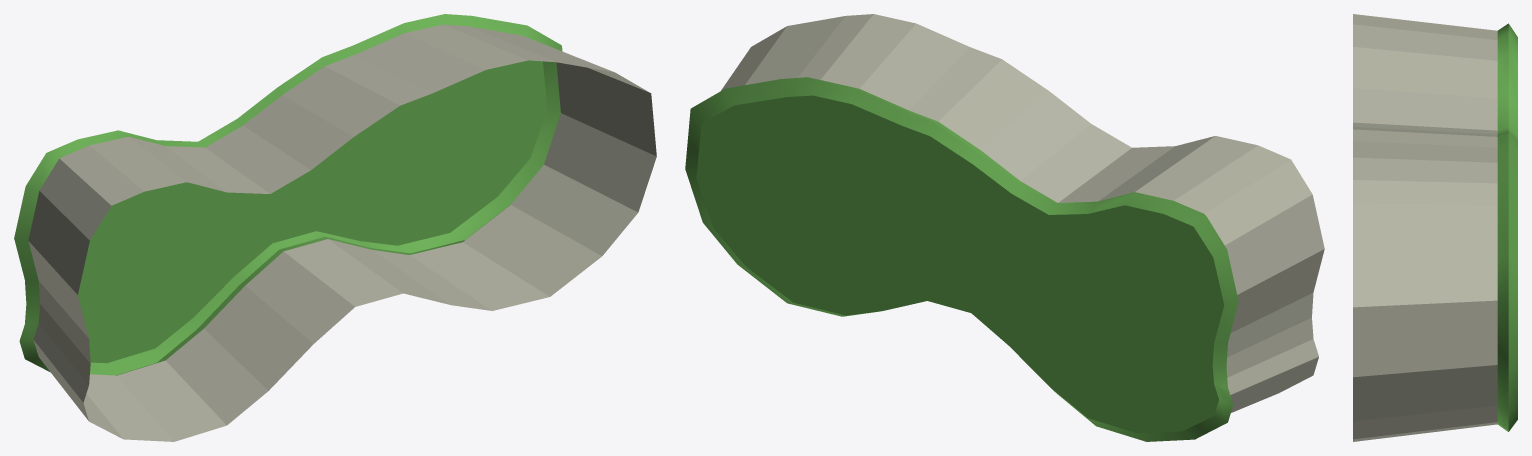
File: Ground Grass 03.FBX
The picture shows the model from 3 angles, left to right: view 1: azimuth 30°, elevation 25°; view 2: azimuth 150°, elevation 25°; view 3: azimuth 270°, elevation 25°; orthographic projection. The views are drawn at different scales.
Parts seen in each view (by area): view 1: Ground Grass 03; view 2: Ground Grass 03; view 3: Ground Grass 03.
Boxes of the visible parts, x1,y1,x2,y2 form: Ground Grass 03: (14, 14, 656, 441); Ground Grass 03: (685, 14, 1324, 441); Ground Grass 03: (1353, 14, 1517, 441).
Size of the model in its own units: 843 by 200 by 412.
